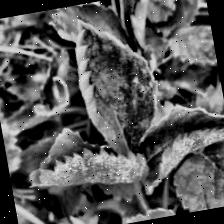Powdery Mildew Leaf: (68, 6, 169, 165), (18, 112, 152, 202), (130, 95, 224, 195), (45, 0, 134, 64), (117, 0, 168, 58)
